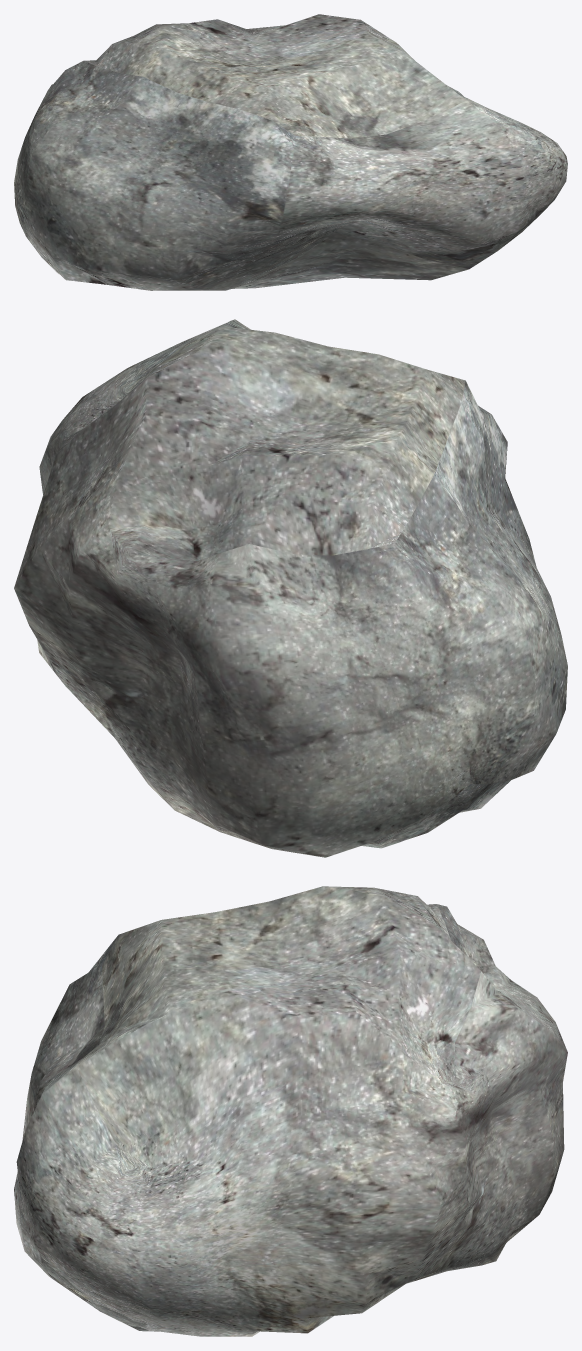
The model's file is Rock3.fbx.
3 renders of one model, top to bottom at view 1: azimuth 30°, elevation 25°; view 2: azimuth 150°, elevation 25°; view 3: azimuth 270°, elevation 25°, orthographic. The views are drawn at different scales.
Visible parts, largest first — view 1: Cube.017; view 2: Cube.017; view 3: Cube.017.
Boxes of the visible parts, x1,y1,x2,y2 form: Cube.017: (14,14,567,290); Cube.017: (14,319,567,857); Cube.017: (14,886,567,1336).
Size of the model in its own units: 636 by 344 by 528.
